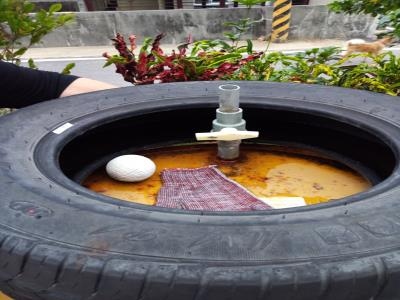tire: (1, 78, 400, 300)
